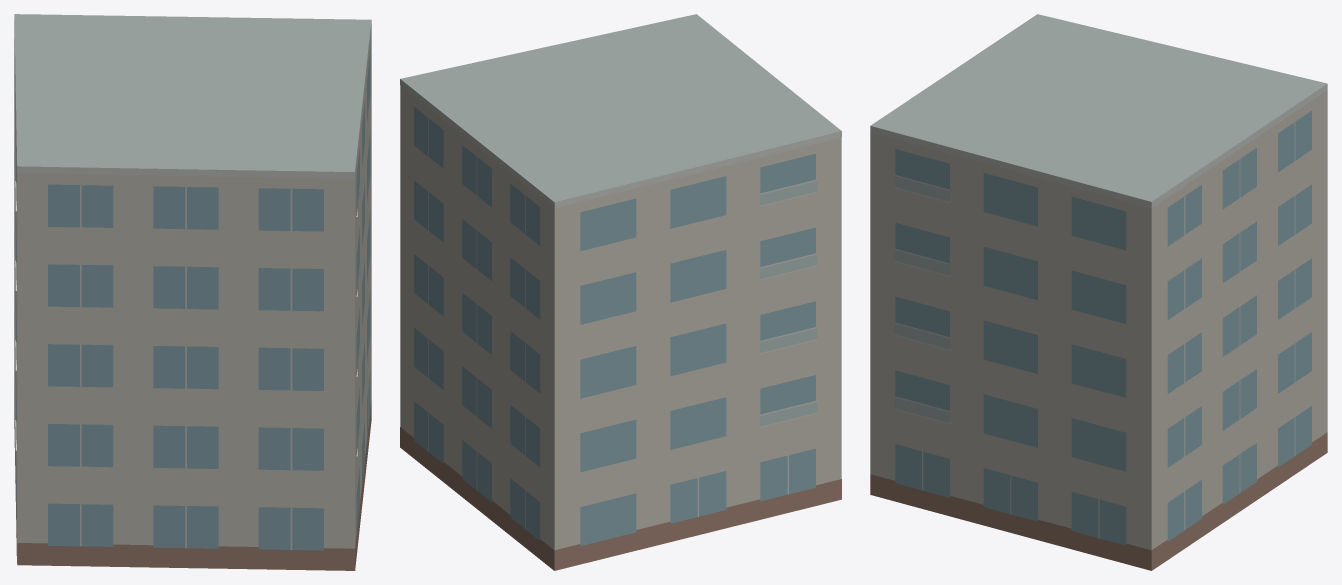
File: survey-upis-32993509.glb
3 renders of one model, left to right at view 1: azimuth 30°, elevation 25°; view 2: azimuth 150°, elevation 25°; view 3: azimuth 270°, elevation 25°, orthographic. The views are drawn at different scales.
Parts seen in each view (by area): view 1: survey-upis-32993509.tmp; view 2: survey-upis-32993509.tmp; view 3: survey-upis-32993509.tmp.
Boxes of the visible parts, <box> form: survey-upis-32993509.tmp: <box>14,14,371,570</box>; survey-upis-32993509.tmp: <box>400,14,841,570</box>; survey-upis-32993509.tmp: <box>870,14,1327,570</box>.
Size of the model in its own units: 15.41 by 14.1 by 15.85.
